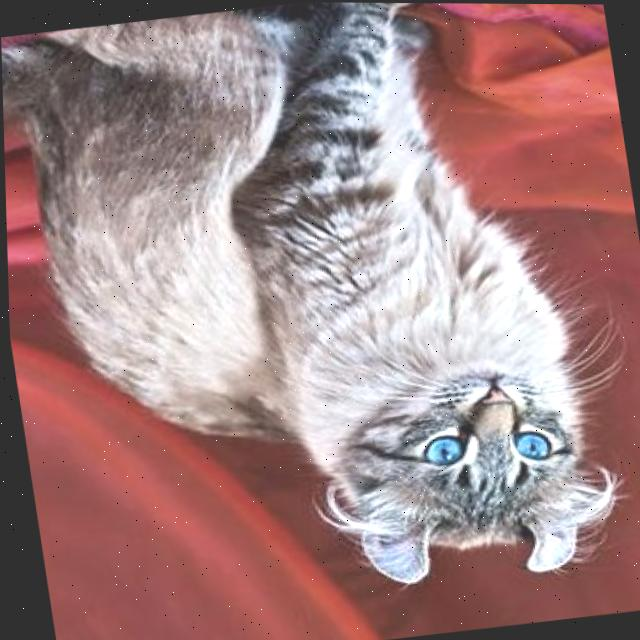American Curl: (0, 0, 619, 637)
